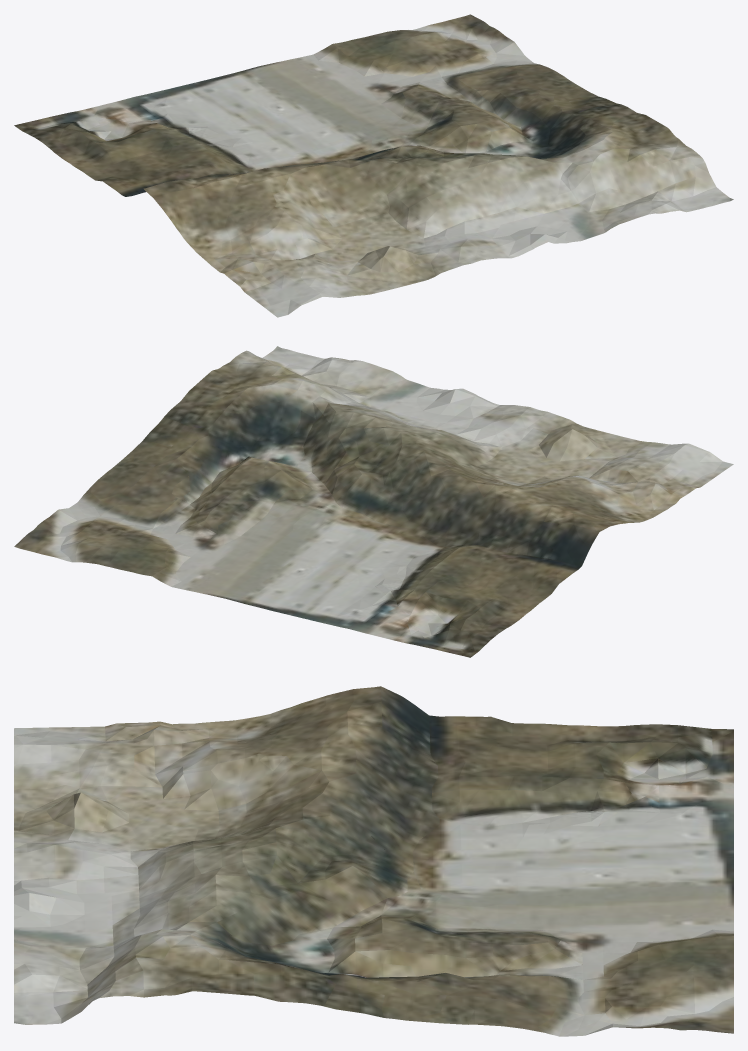
3 renders of one model, top to bottom at view 1: azimuth 30°, elevation 25°; view 2: azimuth 150°, elevation 25°; view 3: azimuth 270°, elevation 25°, orthographic. The views are drawn at different scales.
Size of the model in its own units: 104 by 8.43 by 104.
Materials: 2 (2 with a texture image).
